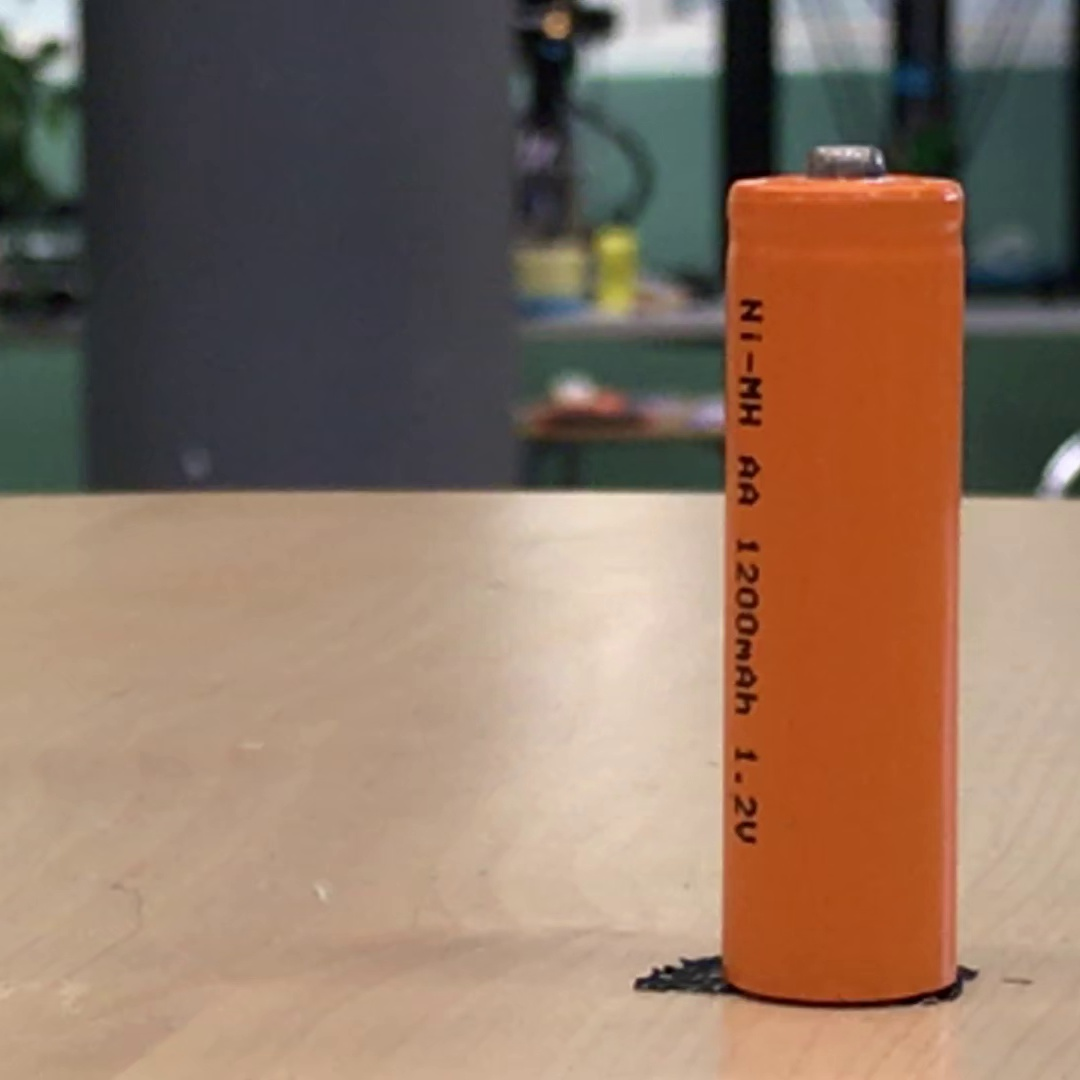keyword: (730, 289, 772, 436)
